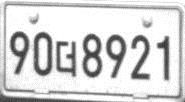0: (33, 31, 53, 77)
1: (155, 35, 171, 81)
2: (129, 34, 152, 81)
8: (81, 34, 102, 78)
9: (105, 34, 127, 79), (9, 30, 30, 75)
더: (55, 41, 77, 78)
